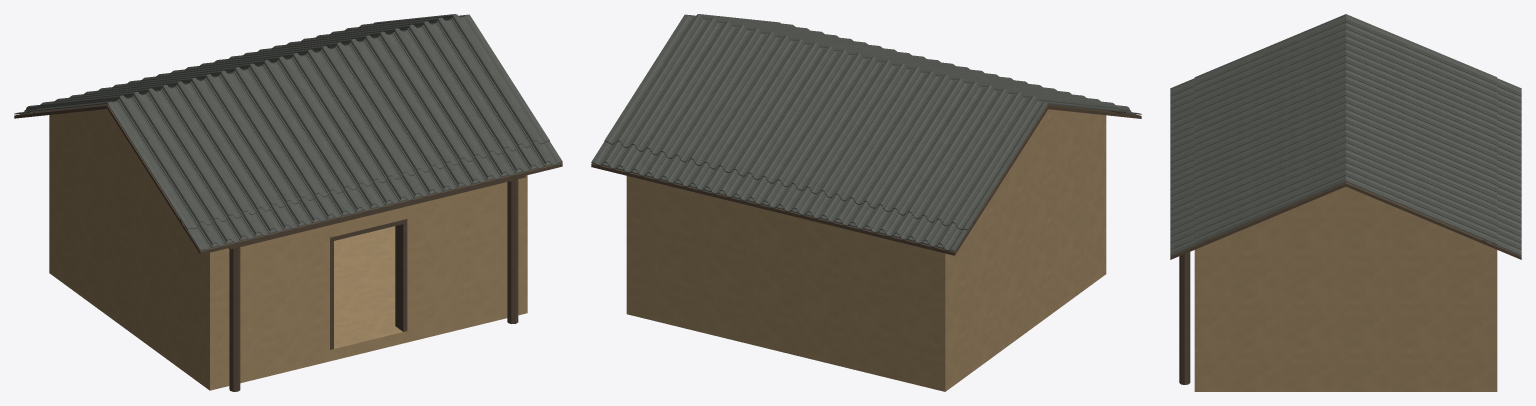
3 views of the same model, side by side, from view 1: azimuth 30°, elevation 25°; view 2: azimuth 150°, elevation 25°; view 3: azimuth 270°, elevation 25° (orthographic). The views are drawn at different scales.
Parts seen in each view (by area): view 1: H64__LY_P01_tile, H64__LY_P01_earth, H64__LY_P01_timber; view 2: H64__LY_P01_earth, H64__LY_P01_tile, H64__LY_P01_timber; view 3: H64__LY_P01_tile, H64__LY_P01_earth, H64__LY_P01_timber.
Part boxes in pixels (left/top/right/bottom): H64__LY_P01_tile: left=14, top=14, right=562, bottom=250; H64__LY_P01_earth: left=49, top=109, right=527, bottom=390; H64__LY_P01_timber: left=14, top=104, right=562, bottom=391; H64__LY_P01_earth: left=626, top=109, right=1106, bottom=391; H64__LY_P01_tile: left=591, top=14, right=1141, bottom=251; H64__LY_P01_timber: left=591, top=104, right=1141, bottom=255; H64__LY_P01_tile: left=1170, top=14, right=1521, bottom=255; H64__LY_P01_earth: left=1194, top=186, right=1497, bottom=391; H64__LY_P01_timber: left=1170, top=182, right=1521, bottom=384.
Bounding box in the file's own units: 7.3 × 4.59 × 6.5.
3 materials, 3 textured.
